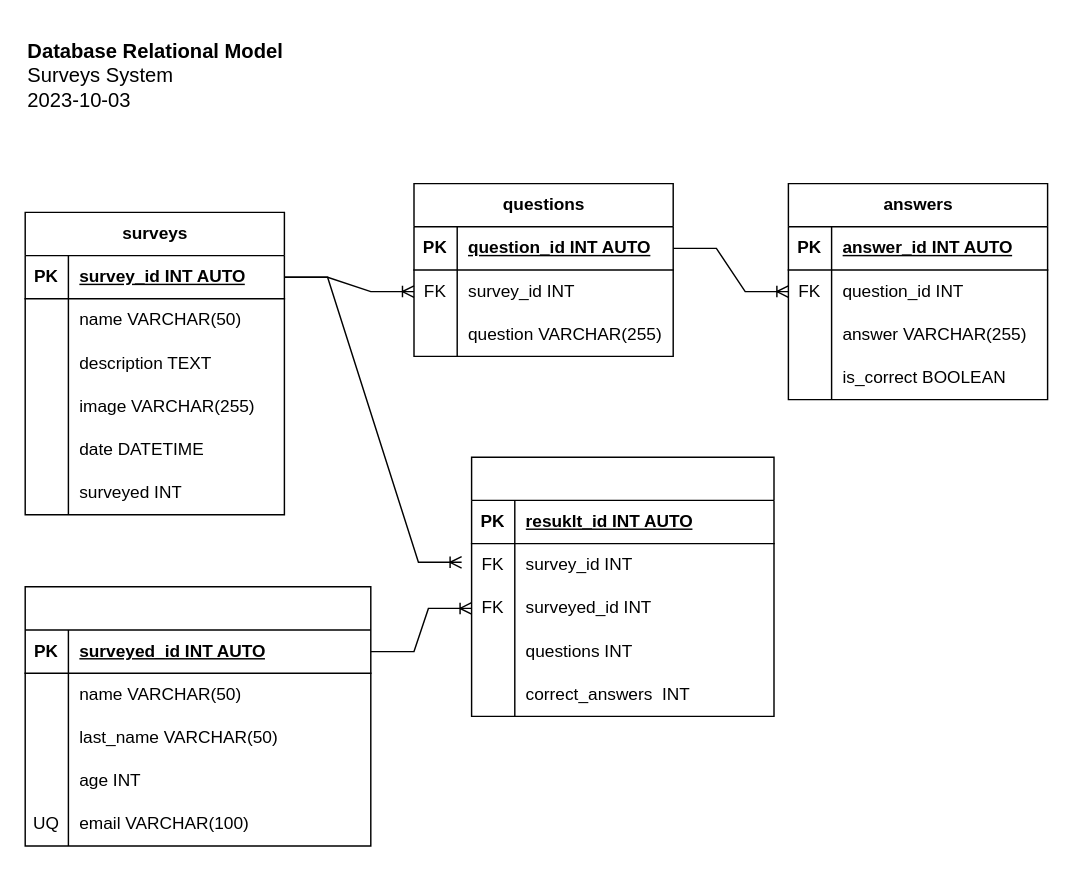
The diagram is 1073 pixels wide and 871 high, and some of its shapes have lost their labels. Here are the shapes that lost their labels. From the top down, the box of each, then its label:
(470, 456, 774, 716): results
(24, 585, 371, 846): surveyeds
